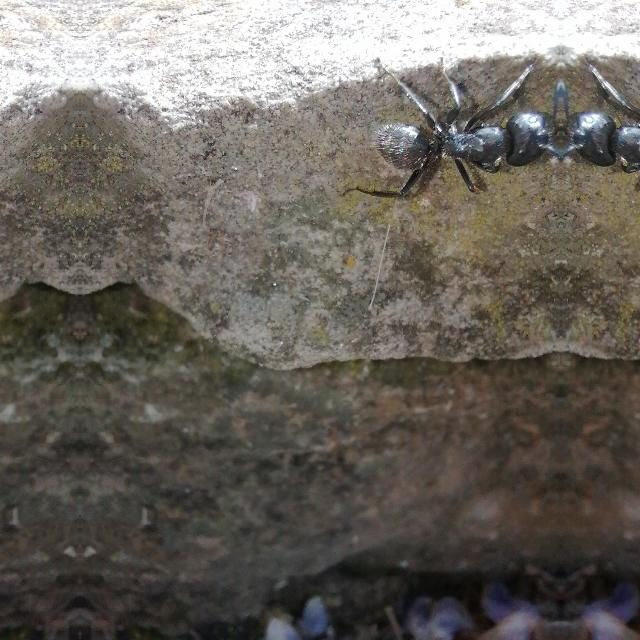Camponotus: (358, 58, 560, 212), (560, 56, 640, 212)
